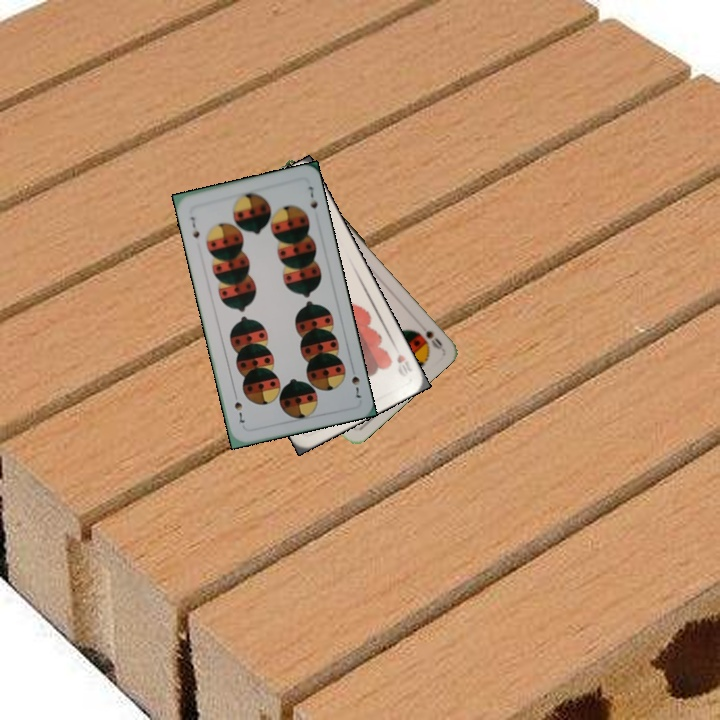H10: (393, 350, 415, 376)
S7: (347, 362, 363, 401), (186, 213, 202, 241)
SO: (421, 326, 445, 352)
